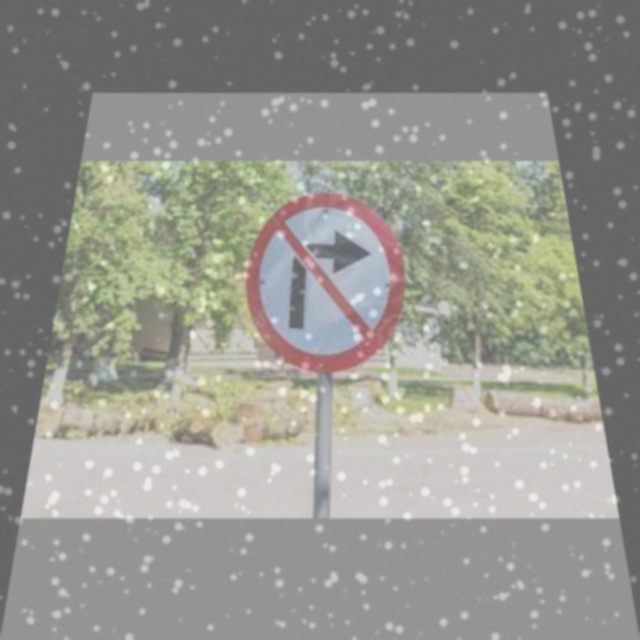Right_Turn_Prohibited: (240, 191, 409, 368)
